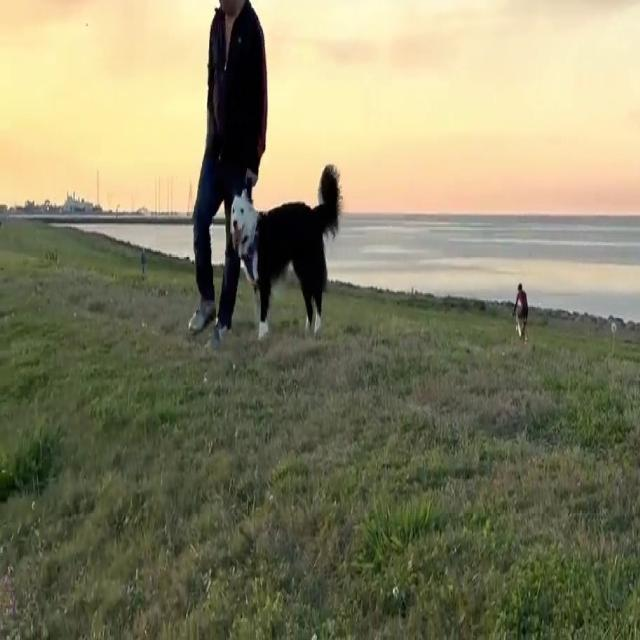Unleashed_Dog: (217, 164, 344, 338)
